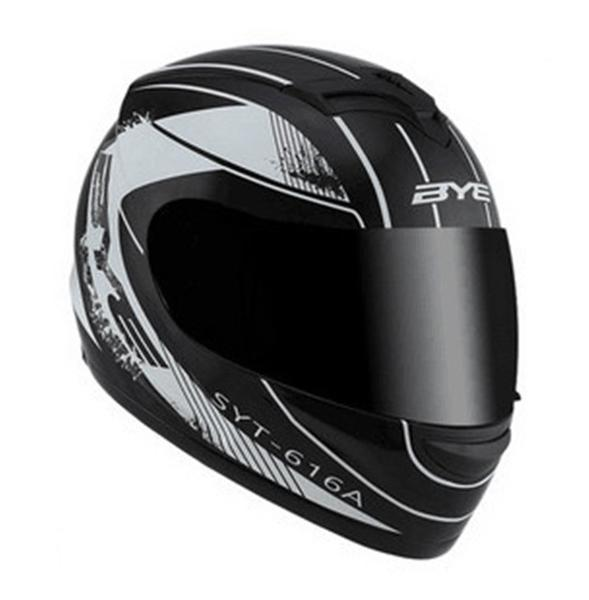with_helmet: (54, 32, 541, 566)
